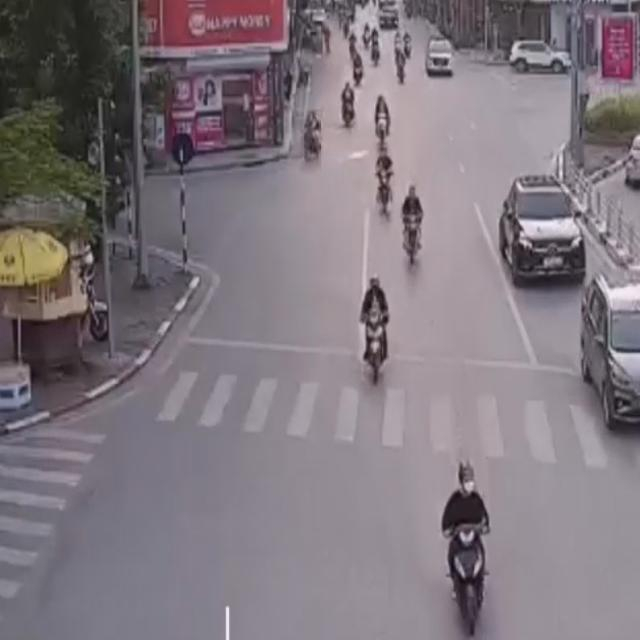car: (571, 247, 640, 429), (492, 168, 592, 284)
motorbike: (432, 461, 491, 640), (359, 278, 394, 391), (402, 183, 426, 269), (301, 104, 326, 168), (375, 146, 395, 215), (374, 91, 392, 145), (342, 80, 357, 131)
